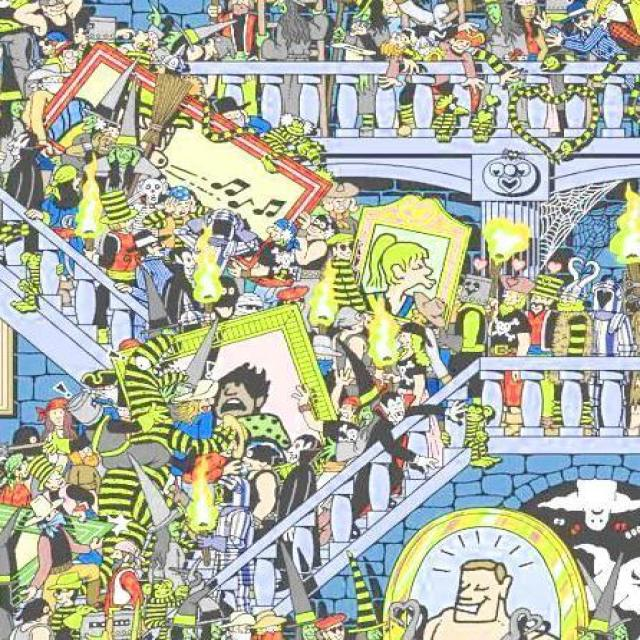waldo: (49, 40, 77, 70)
